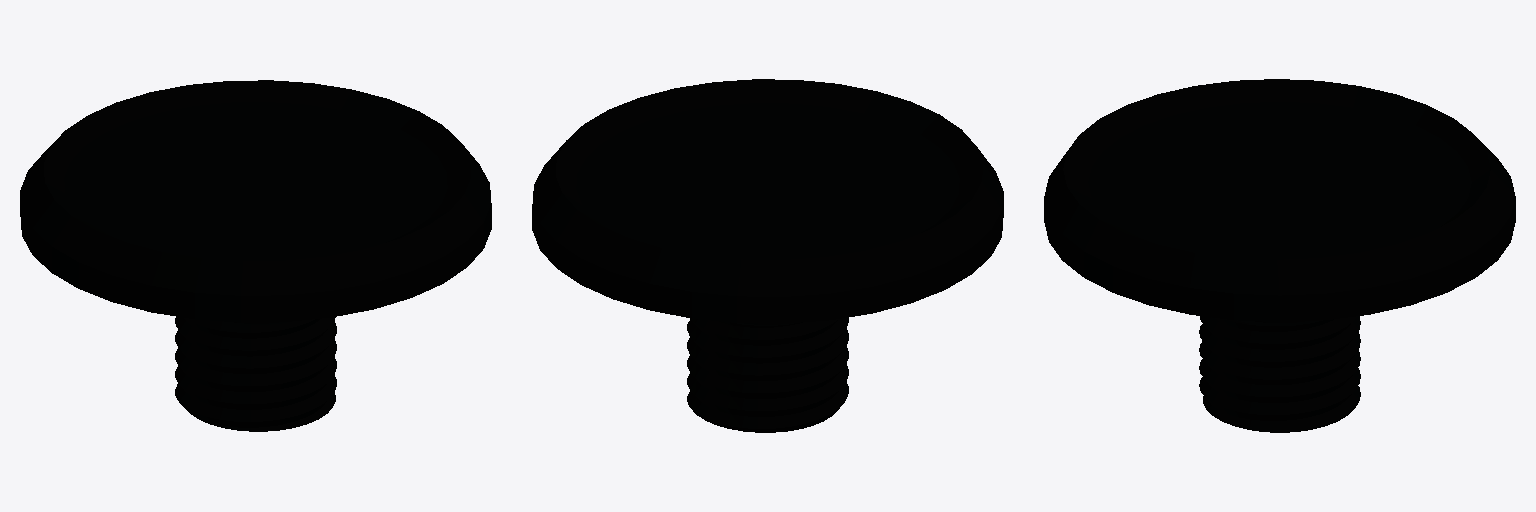
robot.urdf — big_screw:
<?xml version="1.0" ?>
<robot name="big_screw">
  <link name="base_link">
    <inertial>
      <!-- <origin rpy="0 0.0 0.0" xyz="0 0.1 -0.2"/>s -->
      <mass value="0.005"/>
      <inertia ixx="0.000001" ixy="0.0" ixz="0.0" iyy="0.000001" iyz="0.0" izz="0.000001"/>
    </inertial>
    <visual>
      <!-- <origin rpy="0 0.0 0.0" xyz="0 0.1 -0.2"/> -->
      <geometry>
        <mesh filename="package://demo_world/meshes/big_screw.dae" scale="0.25 0.25 0.25"/>
      </geometry>
    </visual>
    <collision>
      <!-- <origin rpy="0 0.0 0.0" xyz="0 0.1 -0.2"/> -->
      <geometry>
        <mesh filename="package://demo_world/meshes/big_screw.dae" scale="0.25 0.25 0.25"/>
      </geometry>
    </collision>
  </link>
</robot>

--- Facts derived from the render (not from the file) ---
Views: 3 orthographic renders of the robot side by side, from view 1: azimuth 30°, elevation 25°; view 2: azimuth 150°, elevation 25°; view 3: azimuth 270°, elevation 25°.
Robot: big_screw — 1 links, 0 joints (none); root link base_link; default pose: every joint at zero.
Links seen in each view (by area): view 1: base_link; view 2: base_link; view 3: base_link.
Link boxes in pixels (x1=…): base_link: x1=20, y1=80, x2=491, y2=431; base_link: x1=532, y1=79, x2=1003, y2=432; base_link: x1=1044, y1=79, x2=1515, y2=432.
Bounding box of the posed robot: 0.04 × 0.04 × 0.0215 m (x, y, z).
1 mesh visuals loaded from 1 distinct referenced files (1 Collada DAE).
